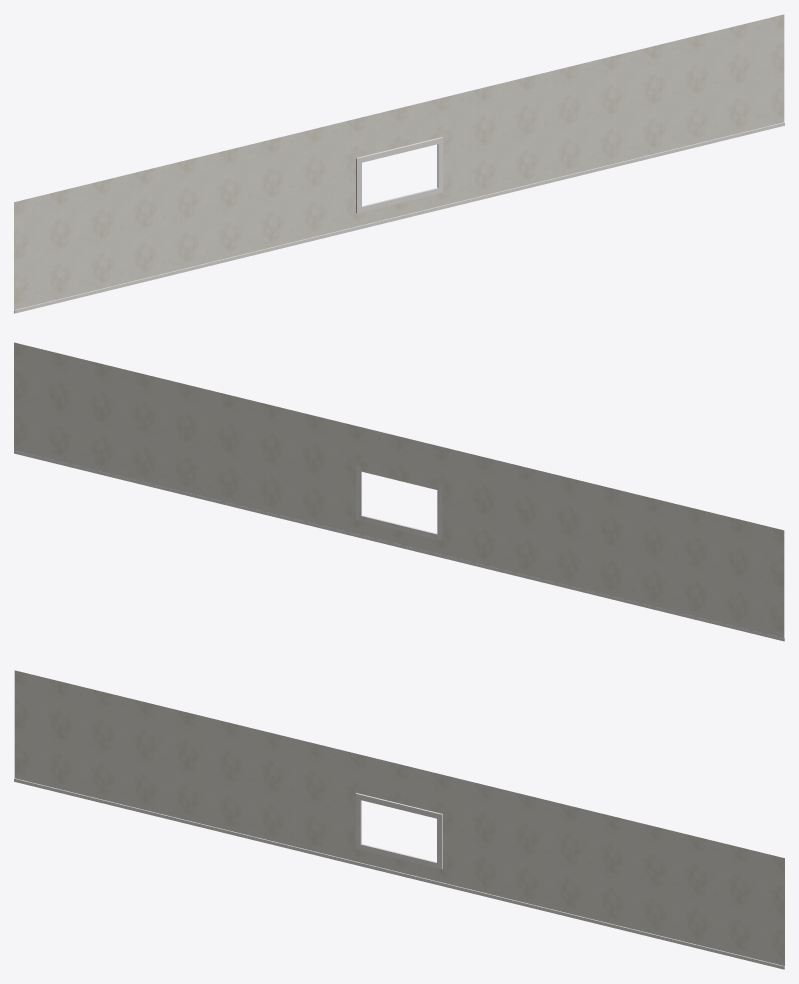
3 views of the same model, one above another, from view 1: azimuth 30°, elevation 25°; view 2: azimuth 150°, elevation 25°; view 3: azimuth 330°, elevation 25° (orthographic).
Parts seen in each view (by area): view 1: jx_wm_36_b8c0417a; view 2: jx_wm_36_b8c0417a; view 3: jx_wm_36_b8c0417a.
Boxes of the visible parts, x1,y1,x2,y2 form: jx_wm_36_b8c0417a: [14, 14, 784, 313]; jx_wm_36_b8c0417a: [14, 342, 784, 641]; jx_wm_36_b8c0417a: [14, 670, 784, 969].
Size of the model in its own units: 36.3 by 5 by 0.086.
Materials: 2 (2 with a texture image).
